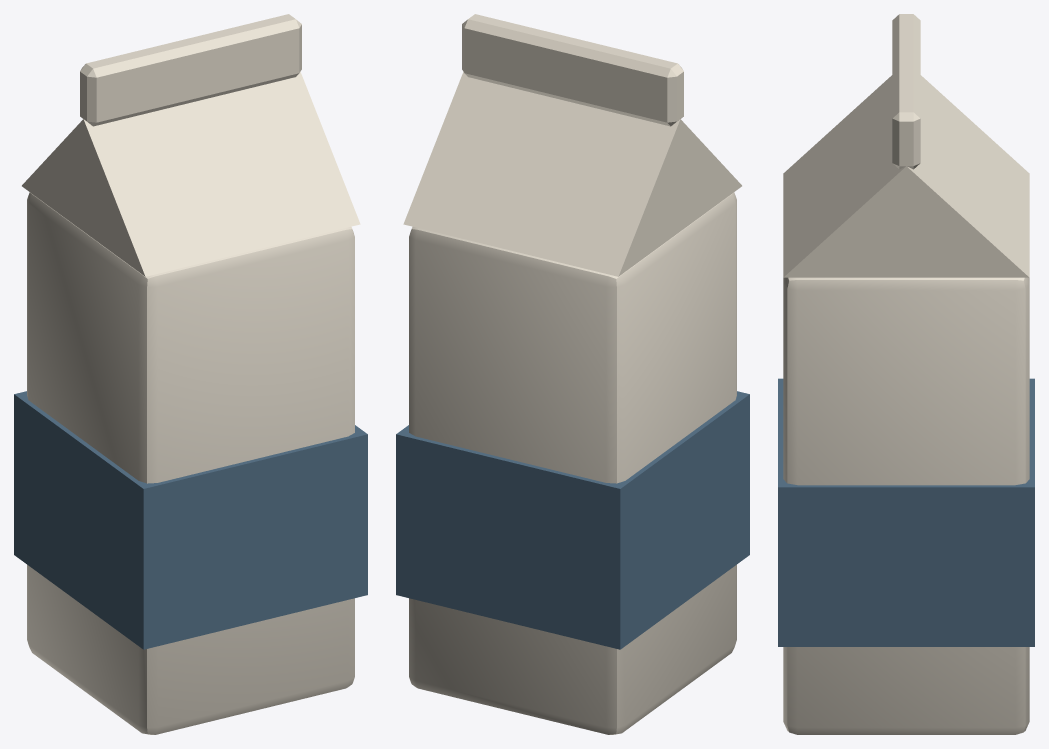
Rendered from milk_carton.glb.
3 views of the same model, side by side, from view 1: azimuth 30°, elevation 25°; view 2: azimuth 150°, elevation 25°; view 3: azimuth 270°, elevation 25° (orthographic).
Parts seen in each view (by area): view 1: milk_carton; view 2: milk_carton; view 3: milk_carton.
Part boxes in pixels (bbox=[...]): milk_carton: bbox=[14, 14, 367, 734]; milk_carton: bbox=[396, 14, 749, 734]; milk_carton: bbox=[778, 14, 1034, 734].
Size of the model in its own units: 0.073 by 0.196 by 0.073.
